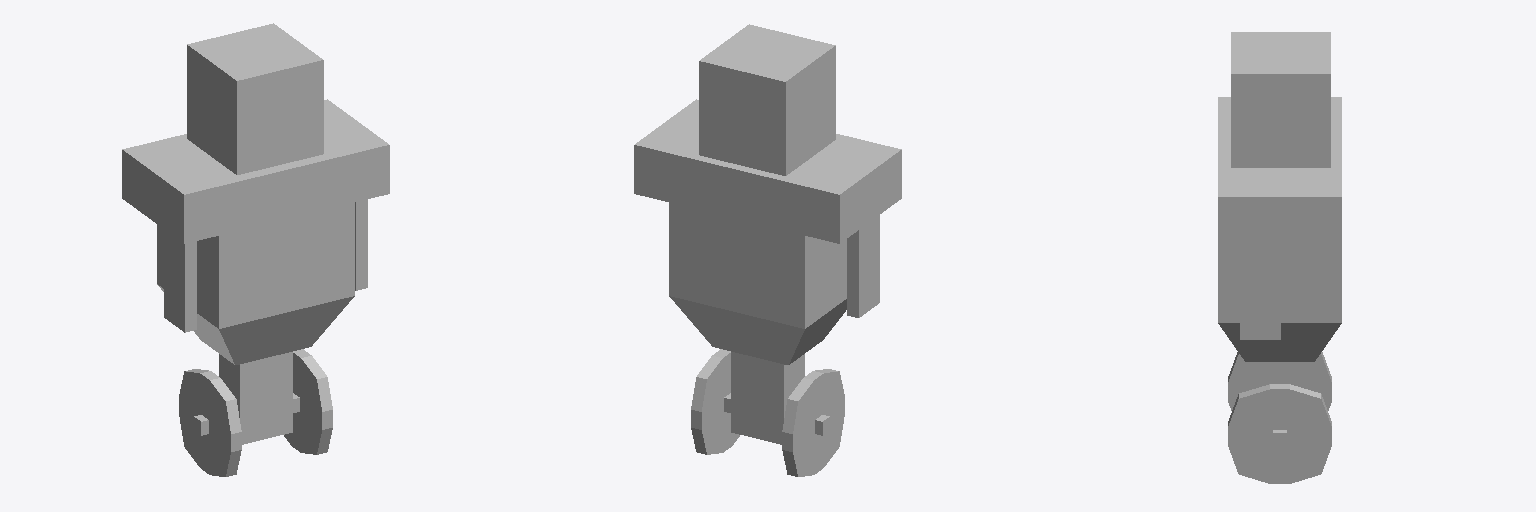
File: Player.obj
3 views of the same model, side by side, from view 1: azimuth 30°, elevation 25°; view 2: azimuth 150°, elevation 25°; view 3: azimuth 270°, elevation 25° (orthographic).
Parts seen in each view (by area): view 1: Box001; view 2: Box001; view 3: Box001.
Part boxes in pixels (bbox=[...]): Box001: bbox=[122, 23, 389, 476]; Box001: bbox=[634, 24, 901, 476]; Box001: bbox=[1218, 32, 1341, 483].
Size of the model in its own units: 0.3156 by 0.5969 by 0.165.